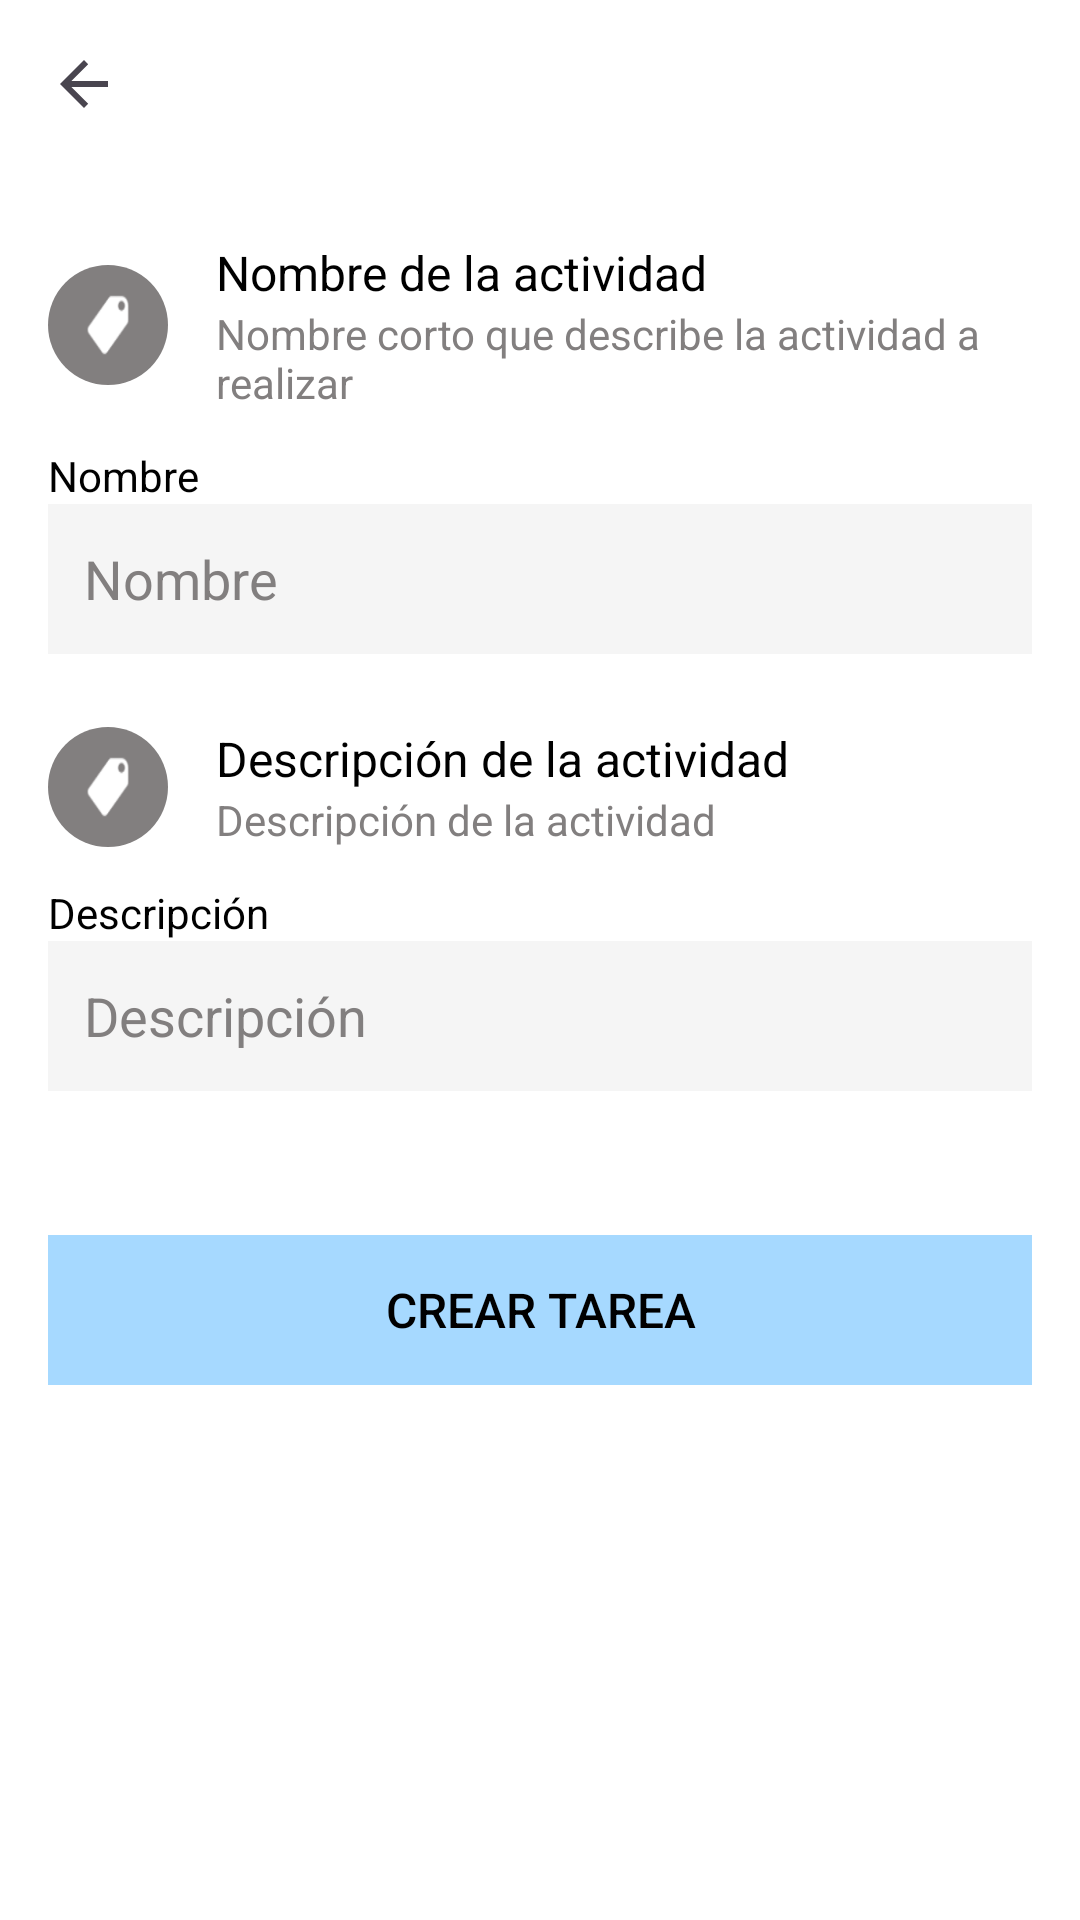

Point at icon controls on the screen. Image size 1080px x 1920px, points as point (x, y).
Volver: point (84, 84)
